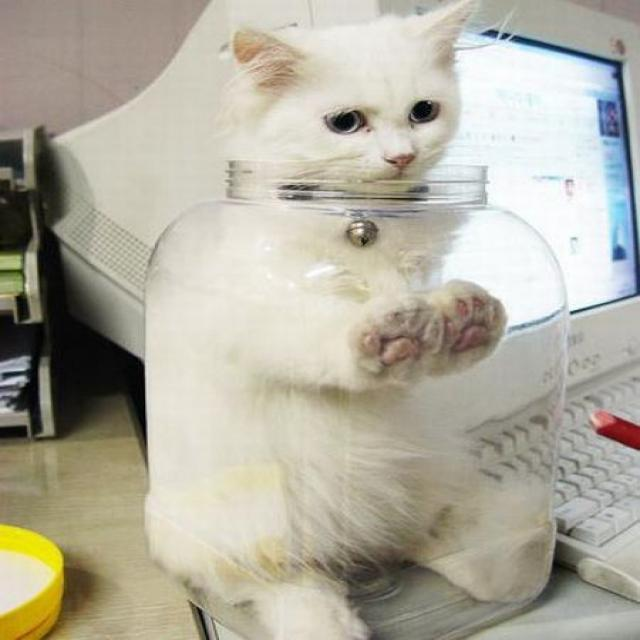cat: (218, 2, 522, 415)
